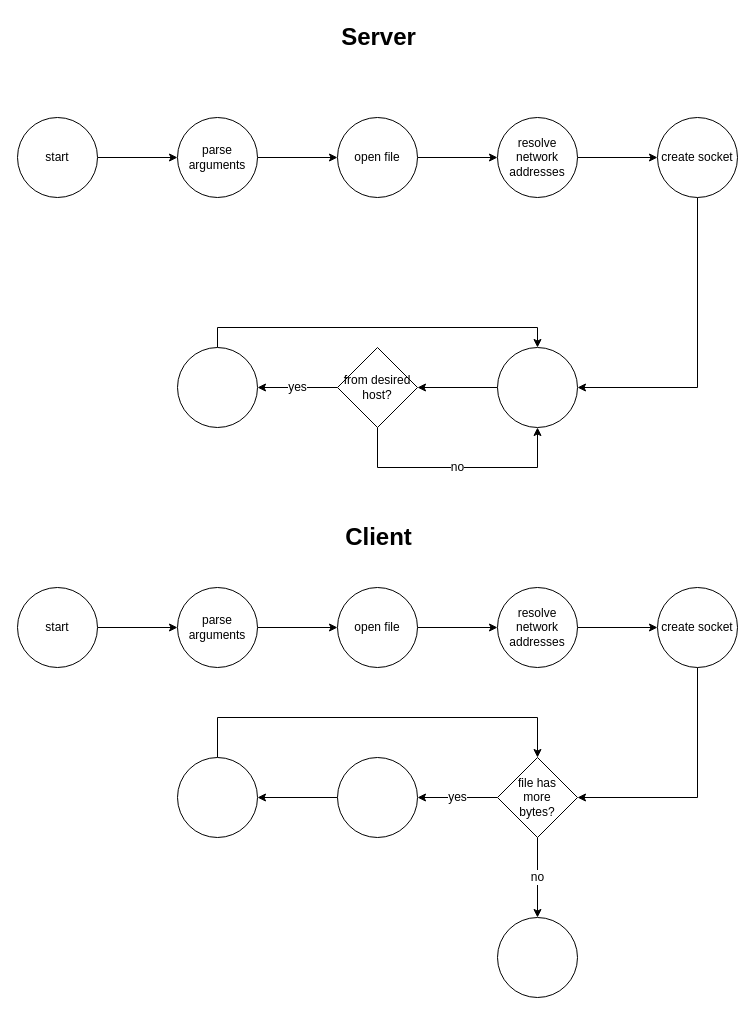
Image size: 755x1015. Some labels were removed from this diagram. The shapes that lost their labels are listed below. From the top down, each one's centre as x and y in pixels, then its label:
[217,387]: extract character
[537,387]: wait on read
[217,797]: send packet
[377,797]: create header with byte
[537,957]: exit
